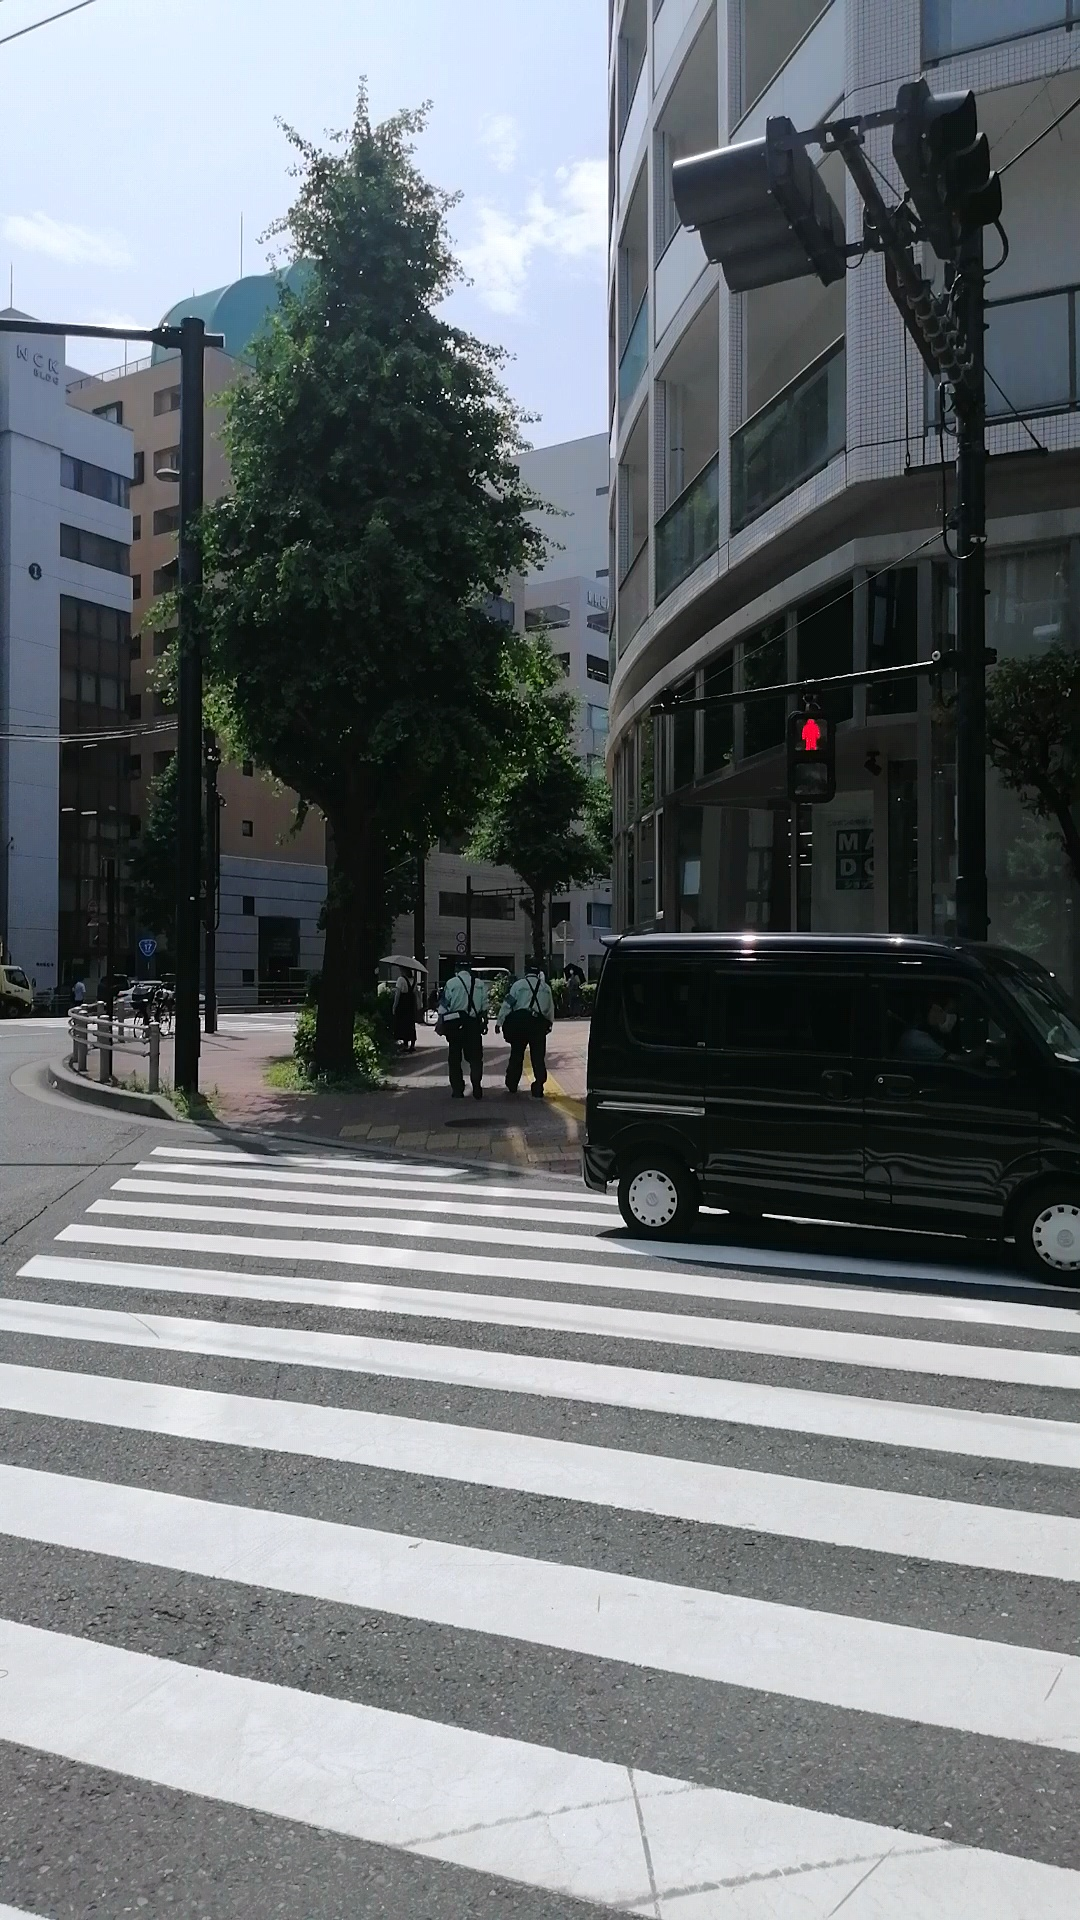red: (781, 709, 835, 804)
